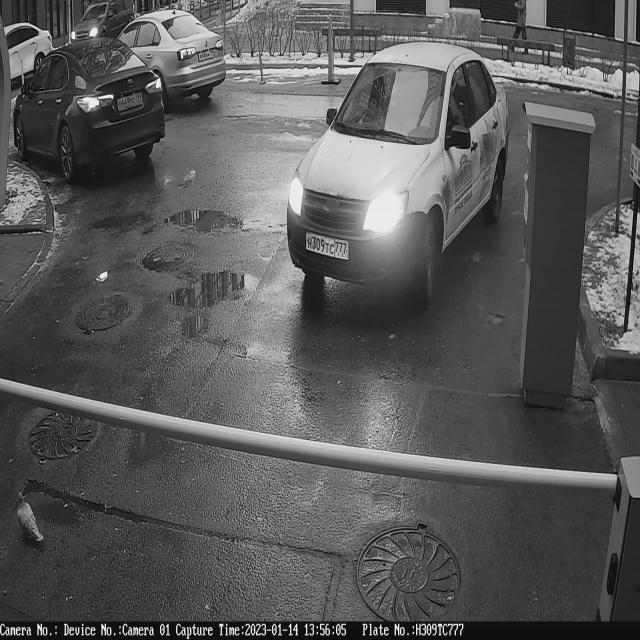car-plate-numbers: (305, 228, 352, 270)
